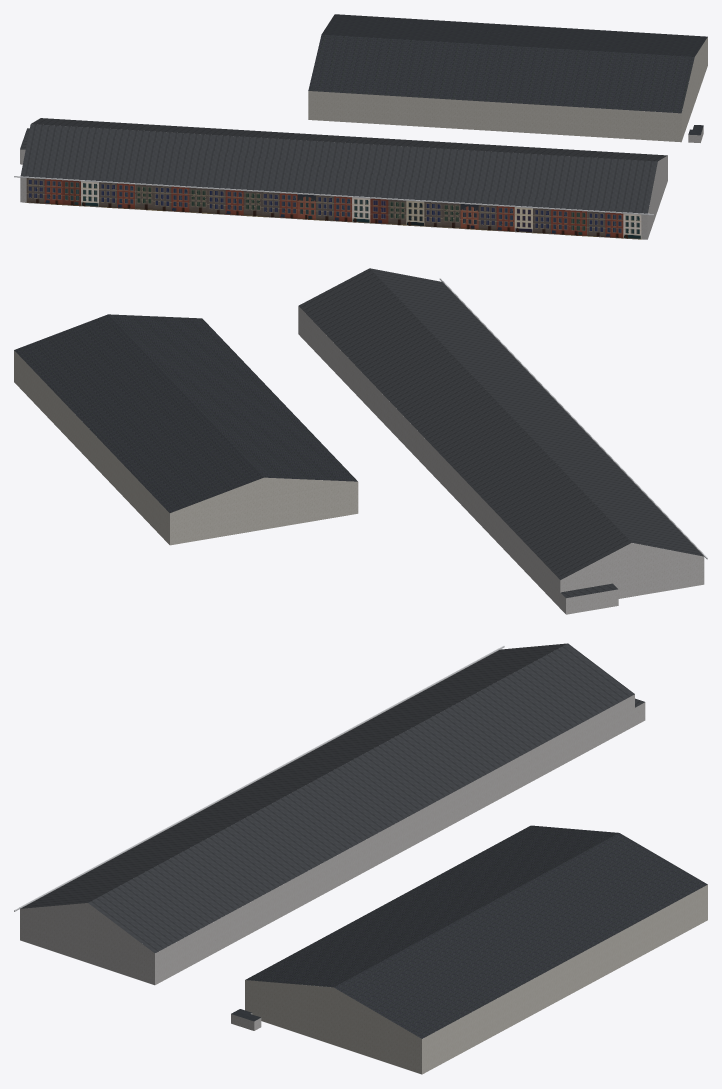
3 views of the same model, one above another, from view 1: azimuth 30°, elevation 25°; view 2: azimuth 150°, elevation 25°; view 3: azimuth 270°, elevation 25° (orthographic). The views are drawn at different scales.
Parts seen in each view (by area): view 1: bldg_6004321224_roof, bldg_6004321244_roof, bldg_6004321224_facade0, bldg_6004321244, bldg_6004321224; view 2: bldg_6004321224_roof, bldg_6004321244_roof, bldg_6004321224, bldg_6004321244, bldg_6004321224_facade0; view 3: bldg_6004321224_roof, bldg_6004321244_roof, bldg_6004321224, bldg_6004321244, bldg_6004321224_facade0.
Boxes of the visible parts, bbox=[...] form: bldg_6004321224_roof: bbox=[20, 118, 667, 213]; bldg_6004321244_roof: bbox=[308, 14, 707, 113]; bldg_6004321224_facade0: bbox=[14, 176, 653, 239]; bldg_6004321244: bbox=[308, 37, 707, 142]; bldg_6004321224: bbox=[20, 124, 667, 239]; bldg_6004321224_roof: bbox=[299, 268, 703, 598]; bldg_6004321244_roof: bbox=[14, 314, 357, 512]; bldg_6004321224: bbox=[298, 306, 704, 614]; bldg_6004321244: bbox=[14, 350, 358, 545]; bldg_6004321224_facade0: bbox=[439, 278, 707, 559]; bldg_6004321224_roof: bbox=[20, 643, 644, 953]; bldg_6004321244_roof: bbox=[245, 825, 707, 1038]; bldg_6004321224: bbox=[20, 694, 645, 985]; bldg_6004321244: bbox=[245, 884, 707, 1074]; bldg_6004321224_facade0: bbox=[14, 646, 504, 911].
Size of what is drawn, in the model's own units: 271 by 19.17 by 200.
8 materials, 6 textured.
